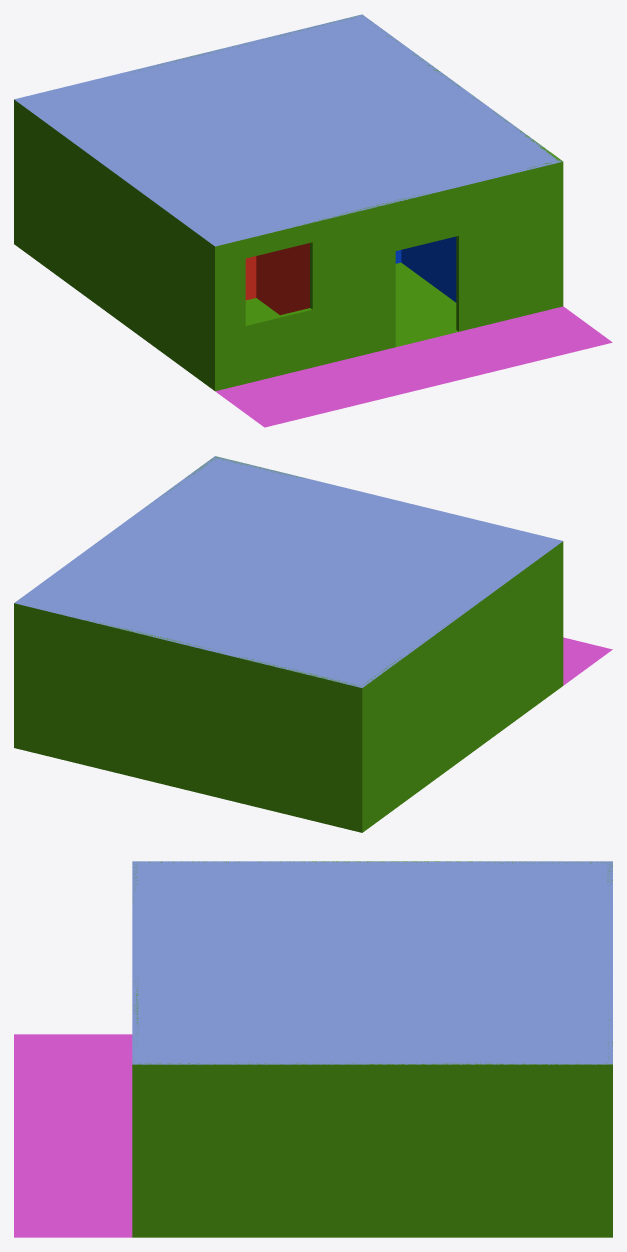
File: NavTest.gltf
The picture shows the model from 3 angles, top to bottom: view 1: azimuth 30°, elevation 25°; view 2: azimuth 150°, elevation 25°; view 3: azimuth 270°, elevation 25°; orthographic projection. The views are drawn at different scales.
Parts seen in each view (by area): view 1: Plane, Plane.002, Plane.001, Cube, Cube.001; view 2: Plane, Plane.002, Plane.001; view 3: Plane.002, Plane, Plane.001.
Part boxes in pixels (left/top/right/bottom): Plane: left=14, top=14, right=563, bottom=391; Plane.002: left=14, top=14, right=562, bottom=246; Plane.001: left=215, top=306, right=612, bottom=427; Cube: left=245, top=243, right=309, bottom=315; Cube.001: left=395, top=236, right=456, bottom=302; Plane: left=14, top=456, right=563, bottom=832; Plane.002: left=14, top=456, right=562, bottom=687; Plane.001: left=563, top=637, right=612, bottom=685; Plane.002: left=132, top=861, right=612, bottom=1064; Plane: left=132, top=861, right=612, bottom=1237; Plane.001: left=14, top=1034, right=132, bottom=1237.
Size of the model in its own units: 10 by 4.02 by 12.46.
